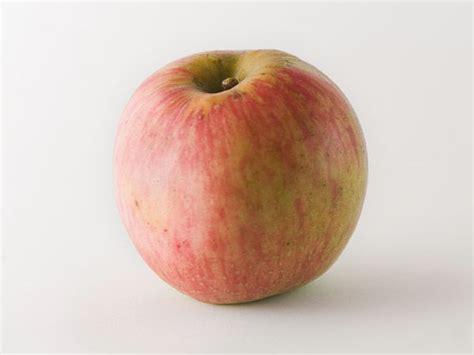apple: (109, 45, 372, 307)
